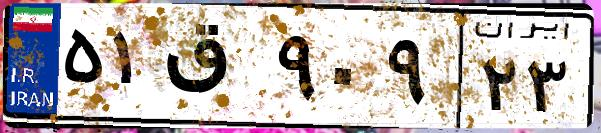0: (330, 28, 385, 110)
1: (110, 28, 158, 98)
2: (475, 38, 525, 113)
3: (525, 38, 570, 115)
5: (57, 26, 110, 100)
9: (270, 28, 330, 110), (385, 28, 445, 110)
ق: (158, 20, 270, 120)
